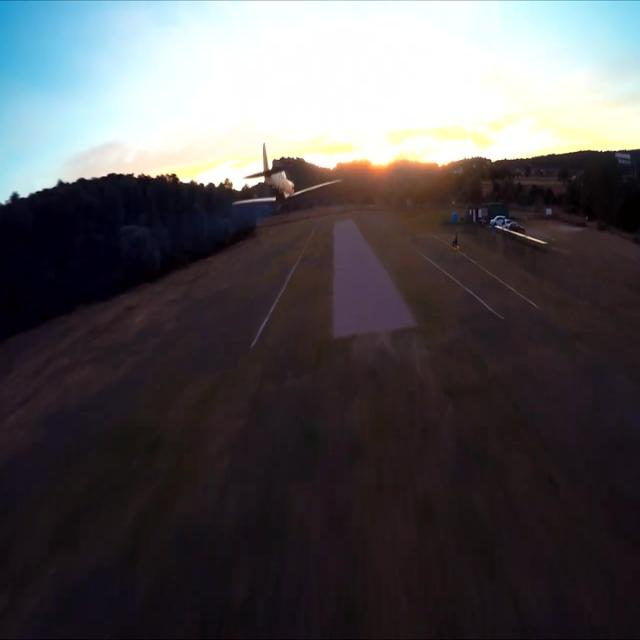iha: (264, 172, 310, 174)
